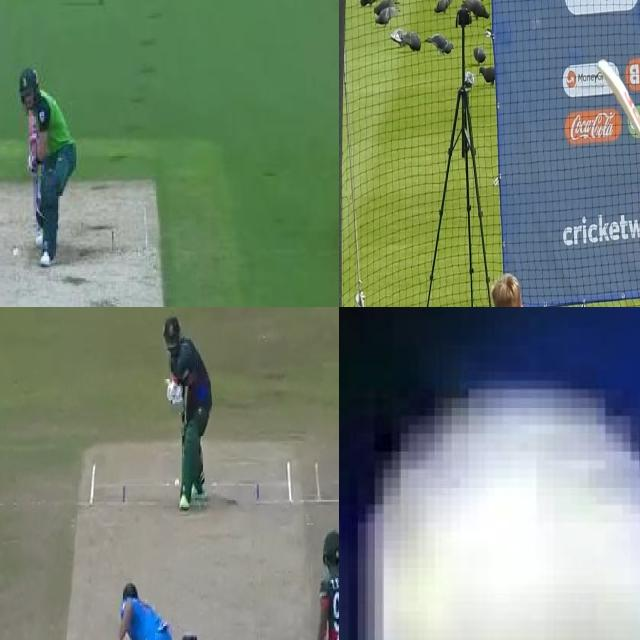Cricket ball: (364, 381, 640, 640), (13, 247, 21, 260), (174, 476, 181, 490)
